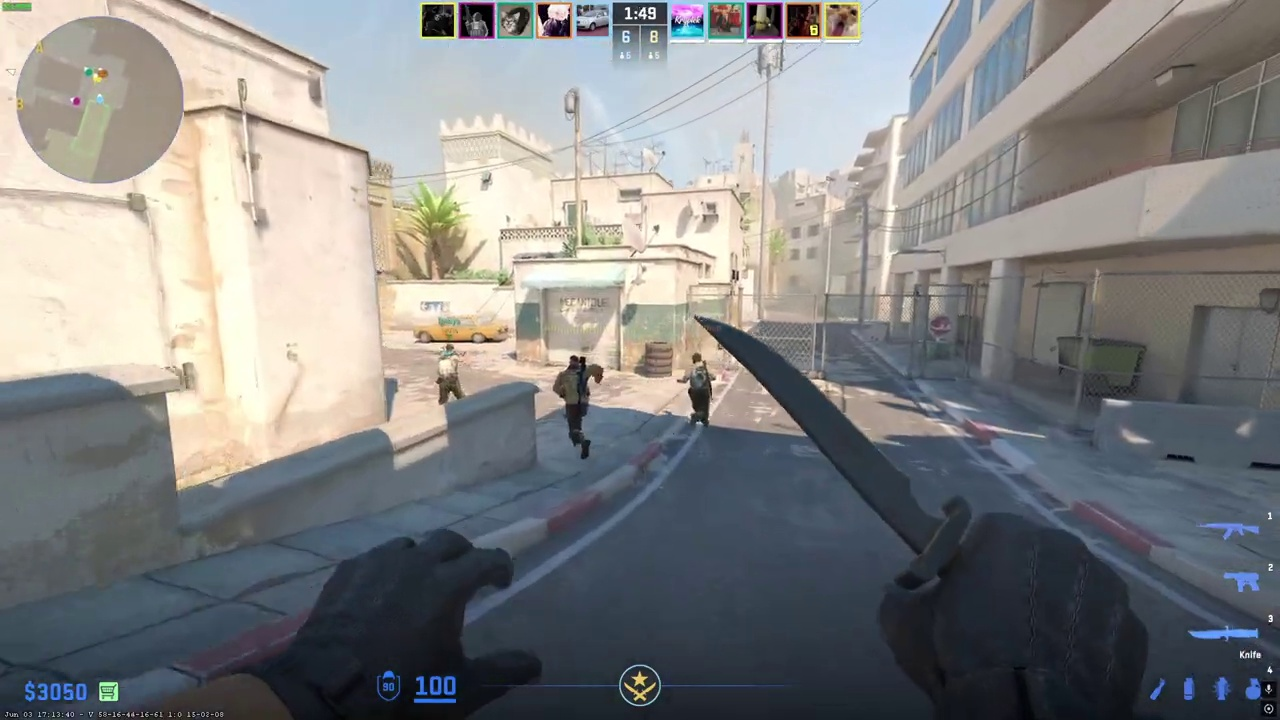Terrorist: (560, 355, 595, 459), (684, 352, 714, 428), (437, 345, 464, 405)
